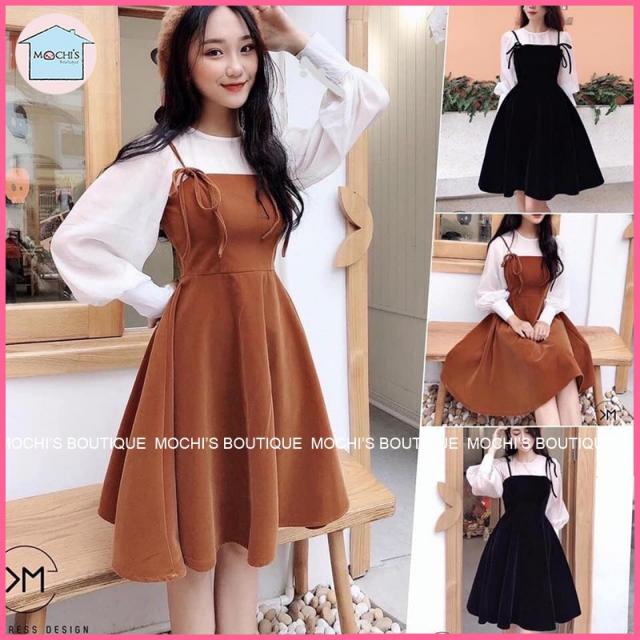clothes: (49, 130, 352, 588), (439, 232, 596, 415), (476, 29, 605, 202), (466, 453, 580, 628)
